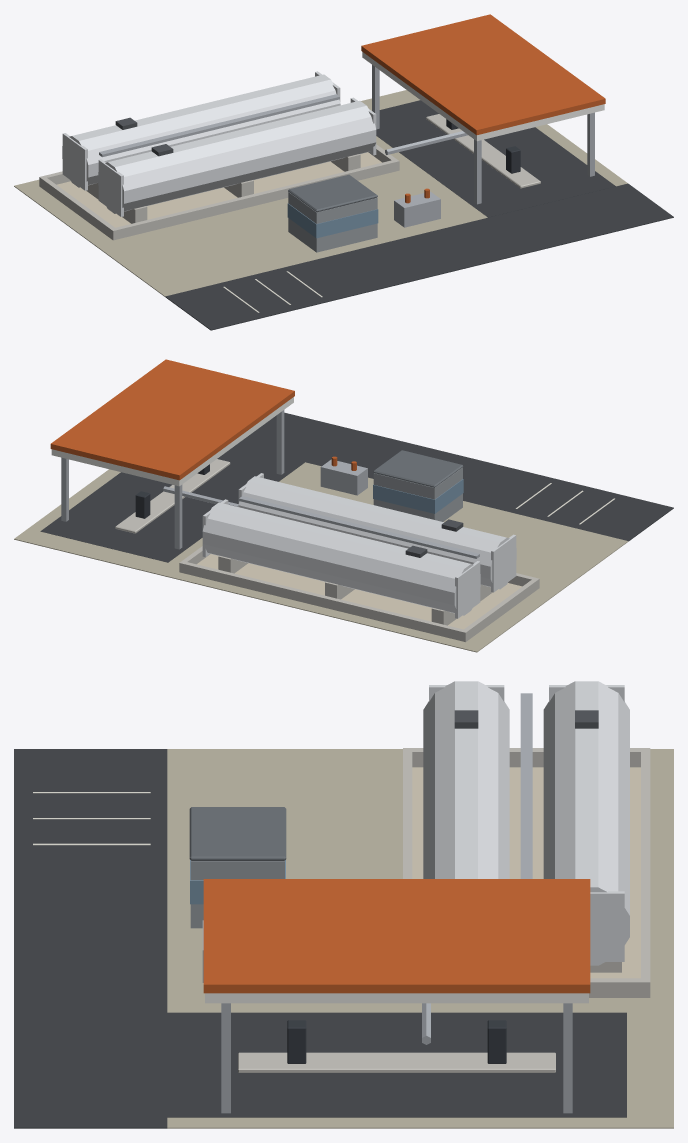
Rendered from fueldepot.glb.
The picture shows the model from 3 angles, top to bottom: view 1: azimuth 30°, elevation 25°; view 2: azimuth 150°, elevation 25°; view 3: azimuth 270°, elevation 25°; orthographic projection. The views are drawn at different scales.
Parts seen in each view (by area): view 1: fueldepot; view 2: fueldepot; view 3: fueldepot.
Part boxes in pixels (bbox=[...]): fueldepot: bbox=[14, 14, 673, 330]; fueldepot: bbox=[14, 359, 673, 652]; fueldepot: bbox=[14, 681, 673, 1128].
Bounding box in the file's own units: 38 × 6.3 × 28.
